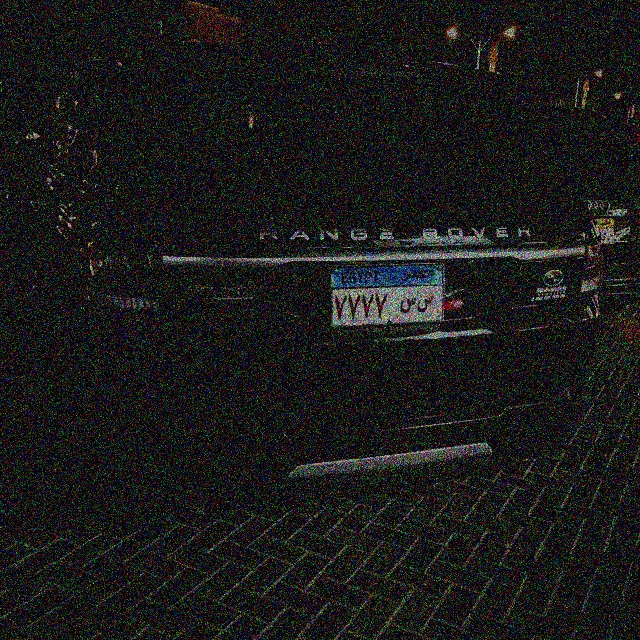License Plate: (327, 262, 450, 331)
